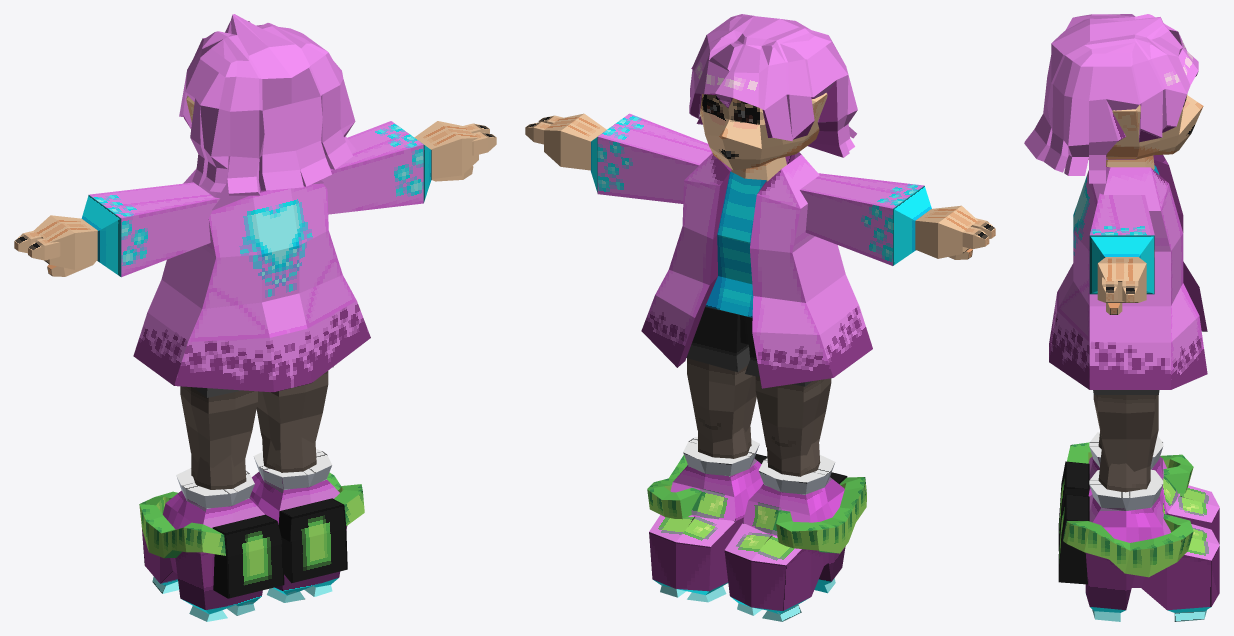
The model's file is character-merge-fork.gltf.
3 renders of one model, left to right at view 1: azimuth 30°, elevation 25°; view 2: azimuth 150°, elevation 25°; view 3: azimuth 270°, elevation 25°, orthographic. The views are drawn at different scales.
Visible parts, largest first — view 1: mesh; view 2: mesh; view 3: mesh.
Boxes of the visible parts, <box> form: mesh: <box>14,14,496,621</box>; mesh: <box>525,14,995,621</box>; mesh: <box>1024,14,1219,621</box>.
Size of the model in its own units: 2.09 by 2.42 by 0.7517.
1 material, 1 textured.
